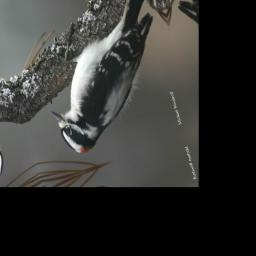Woodpecker: (26, 0, 188, 161)
